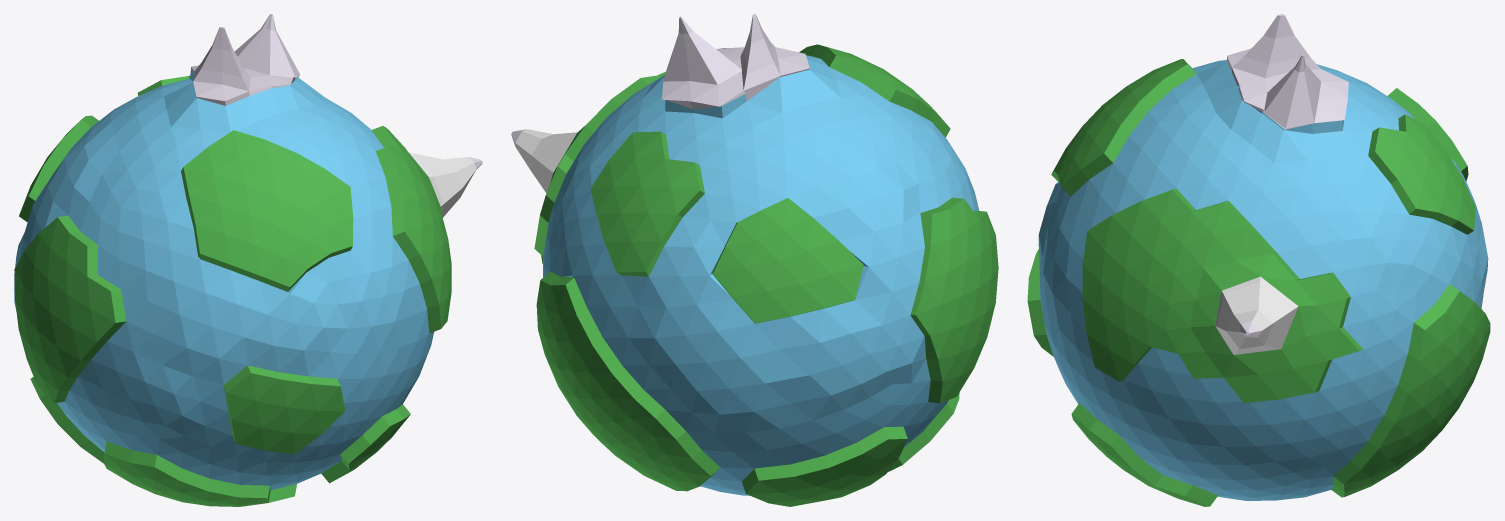
File: ZEME.gltf
The picture shows the model from 3 angles, left to right: view 1: azimuth 30°, elevation 25°; view 2: azimuth 150°, elevation 25°; view 3: azimuth 270°, elevation 25°; orthographic projection. The views are drawn at different scales.
Parts seen in each view (by area): view 1: ZEME; view 2: ZEME; view 3: ZEME.
Boxes of the visible parts, x1,y1,x2,y2 form: ZEME: (14, 14, 482, 506); ZEME: (511, 14, 998, 506); ZEME: (1027, 14, 1490, 506).
Bounding box in the file's own units: 2.41 × 2.36 × 2.08.
